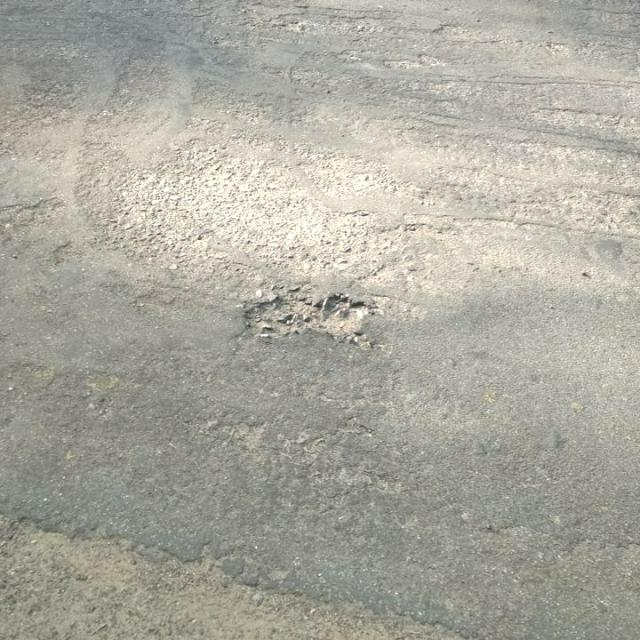Pothole: (1, 513, 498, 639), (244, 289, 380, 346)
